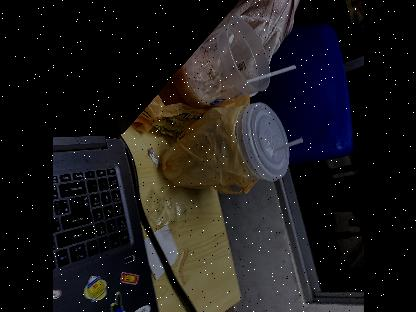Others: (162, 100, 294, 190), (162, 17, 272, 111), (160, 100, 250, 192), (238, 104, 292, 182), (134, 94, 210, 138), (138, 224, 180, 282), (146, 198, 188, 230), (245, 64, 296, 82), (214, 32, 234, 66), (143, 142, 163, 174), (270, 136, 304, 154)
